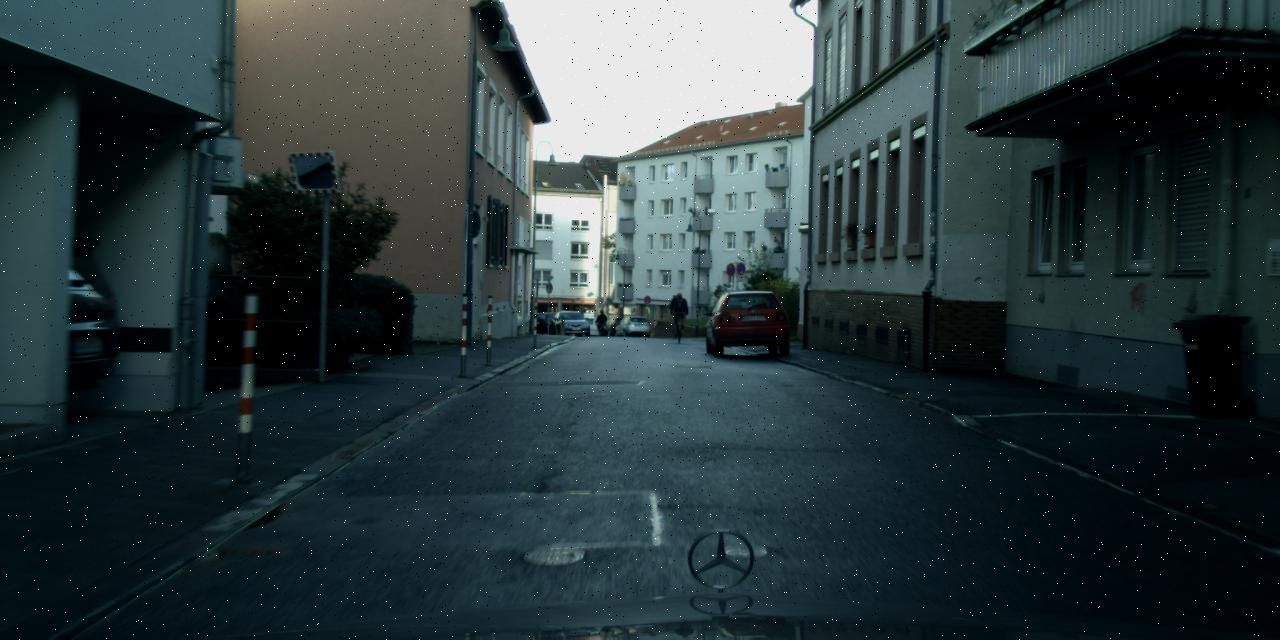ped: (669, 291, 687, 335), (597, 309, 606, 333)
